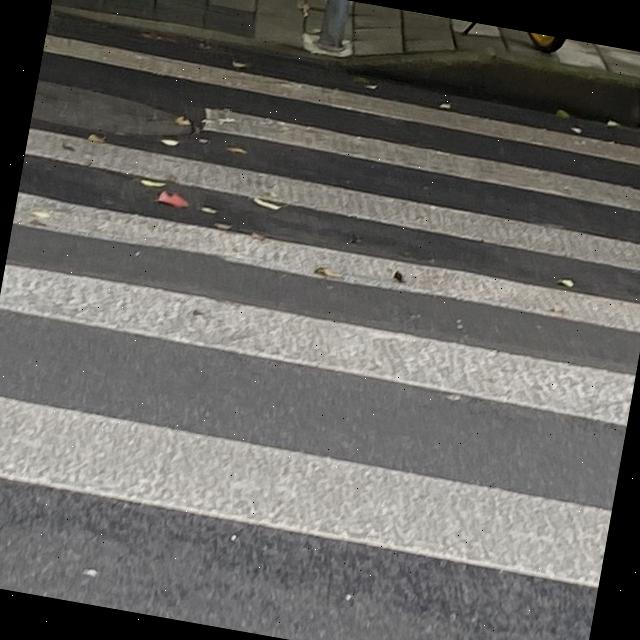curb: (340, 50, 640, 127), (48, 4, 255, 45)
